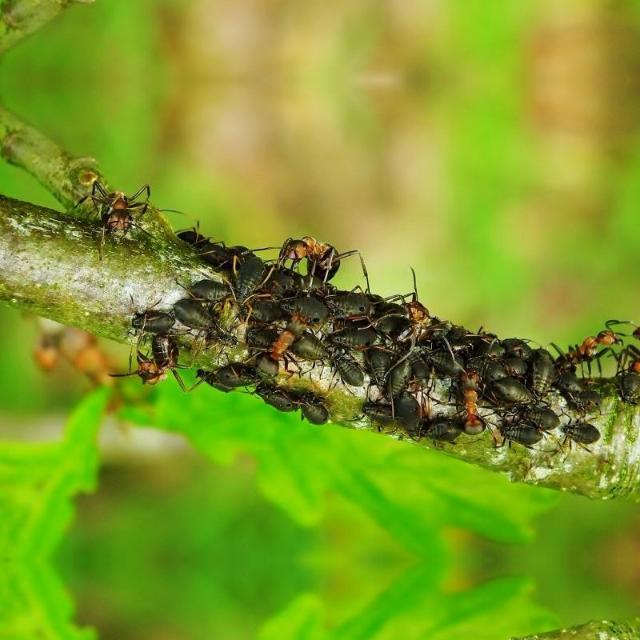Formica: (266, 222, 370, 300), (116, 318, 198, 404), (550, 303, 620, 391), (434, 365, 506, 443), (83, 176, 153, 246), (392, 282, 462, 348), (612, 310, 640, 400)
